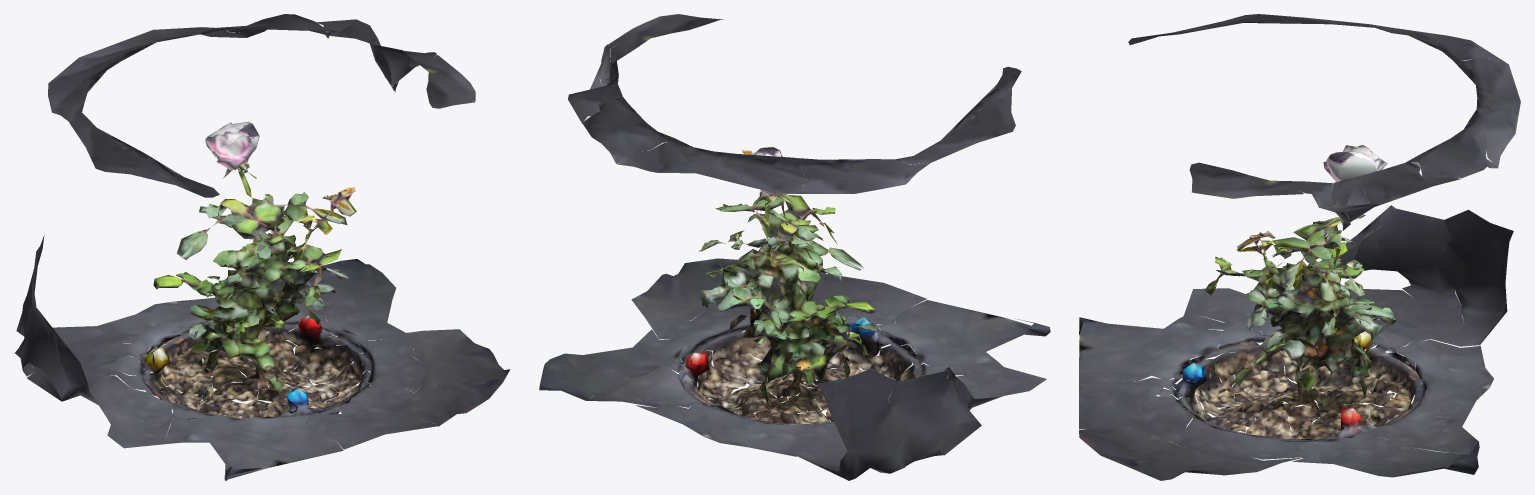
3 renders of one model, left to right at view 1: azimuth 30°, elevation 25°; view 2: azimuth 150°, elevation 25°; view 3: azimuth 270°, elevation 25°, orthographic. The views are drawn at different scales.
Parts seen in each view (by area): view 1: _9B1CF6FB_7F33_4B2F_9AD1_F07B1A795095; view 2: _9B1CF6FB_7F33_4B2F_9AD1_F07B1A795095; view 3: _9B1CF6FB_7F33_4B2F_9AD1_F07B1A795095.
Part boxes in pixels (bbox=[...]): _9B1CF6FB_7F33_4B2F_9AD1_F07B1A795095: bbox=[14, 14, 510, 480]; _9B1CF6FB_7F33_4B2F_9AD1_F07B1A795095: bbox=[539, 14, 1050, 480]; _9B1CF6FB_7F33_4B2F_9AD1_F07B1A795095: bbox=[1079, 14, 1520, 480].
Size of what is drawn, in the model's own units: 1.45 by 1.18 by 1.41.
1 material, 1 textured.
